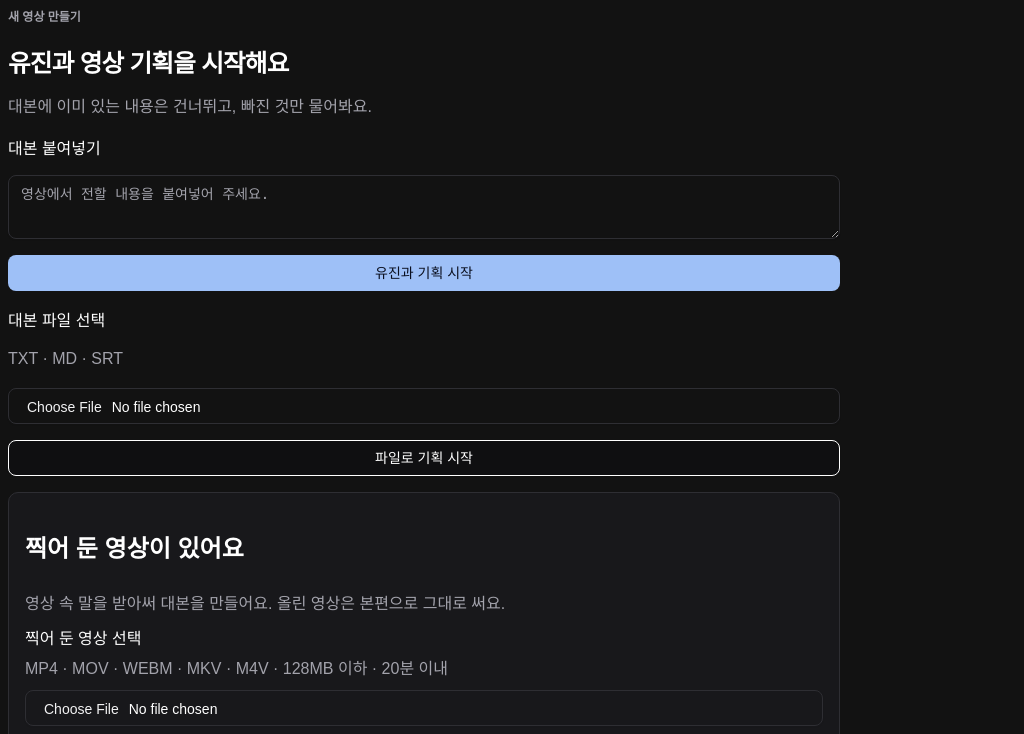
it: CreationInterview › starts a project-scoped Eugene interview from pasted script and saves the resulting brief id for refresh resume
Type "신제품을 소개합니다." into the text box labelled "대본 붙여넣기" at {"x": 424, "y": 207}, box [8,175,840,239]
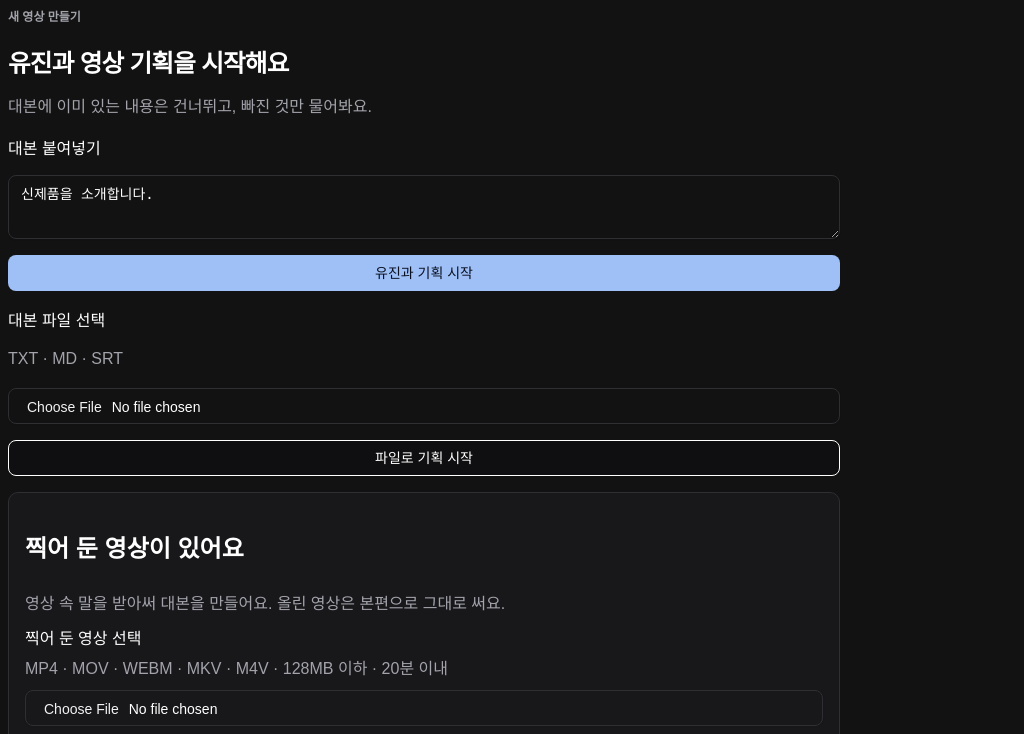
Click the button "유진과 기획 시작" at {"x": 424, "y": 273}, box [8,255,840,291]
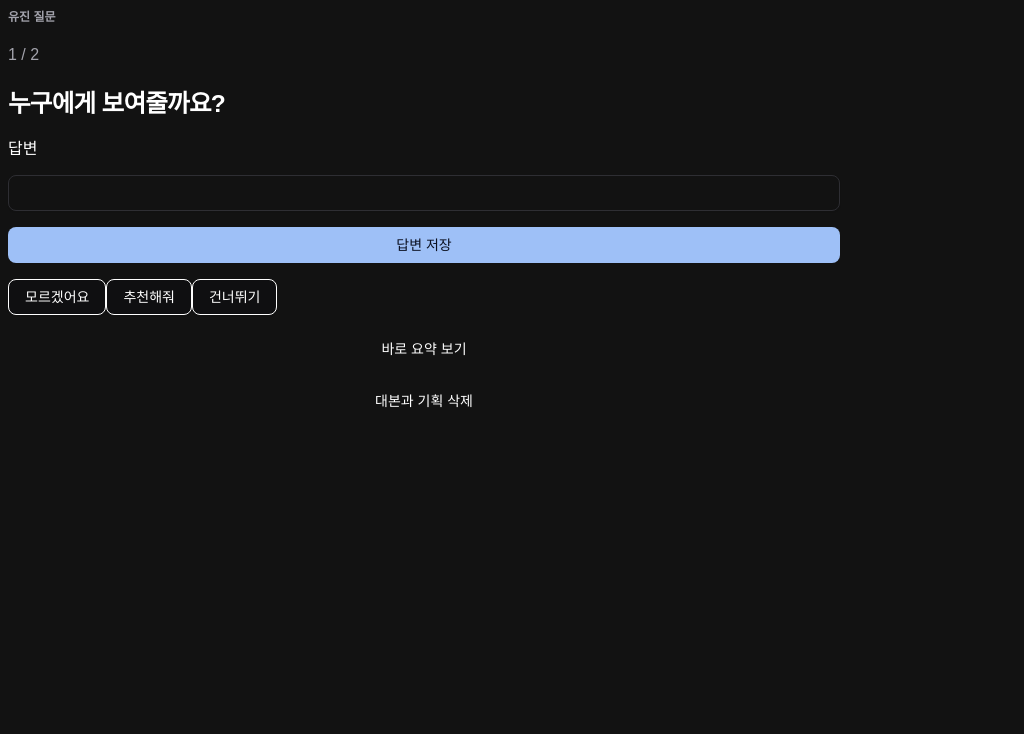
expect the heading "누구에게 보여줄까요?" is shown: met, box [8,90,225,117]
expect the text "1 / 2" is shown: met, box [8,46,39,63]
